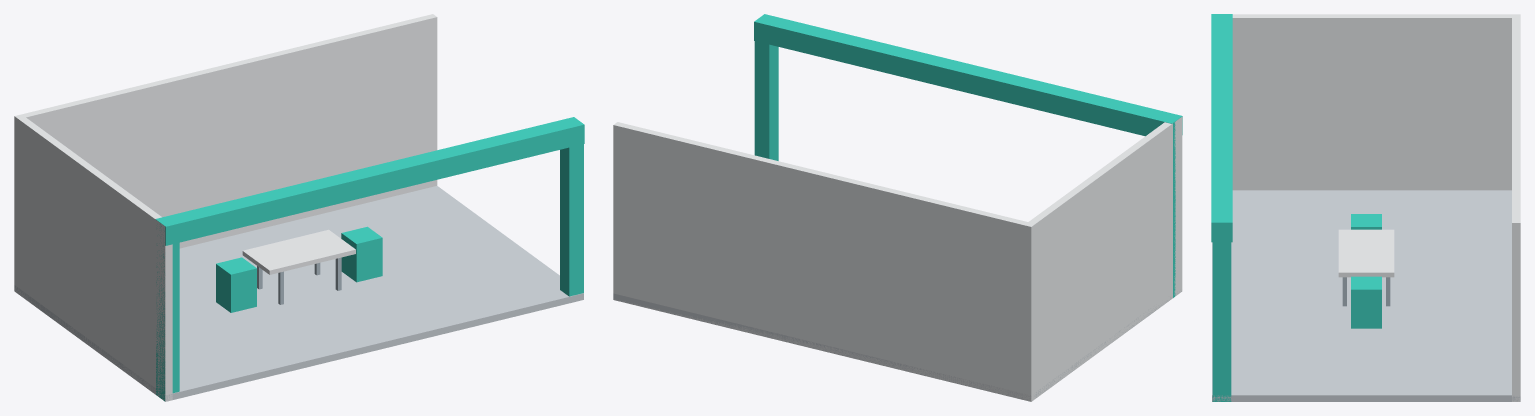
3 views of the same model, side by side, from view 1: azimuth 30°, elevation 25°; view 2: azimuth 150°, elevation 25°; view 3: azimuth 270°, elevation 25° (orthographic). The views are drawn at different scales.
Parts seen in each view (by area): view 1: Exhibition Booth Concept; view 2: Exhibition Booth Concept; view 3: Exhibition Booth Concept.
Boxes of the visible parts, bbox=[...] form: Exhibition Booth Concept: bbox=[14, 14, 584, 401]; Exhibition Booth Concept: bbox=[613, 14, 1182, 401]; Exhibition Booth Concept: bbox=[1211, 14, 1520, 401].
Bounding box in the file's own units: 8 × 3.2 × 5.02.
